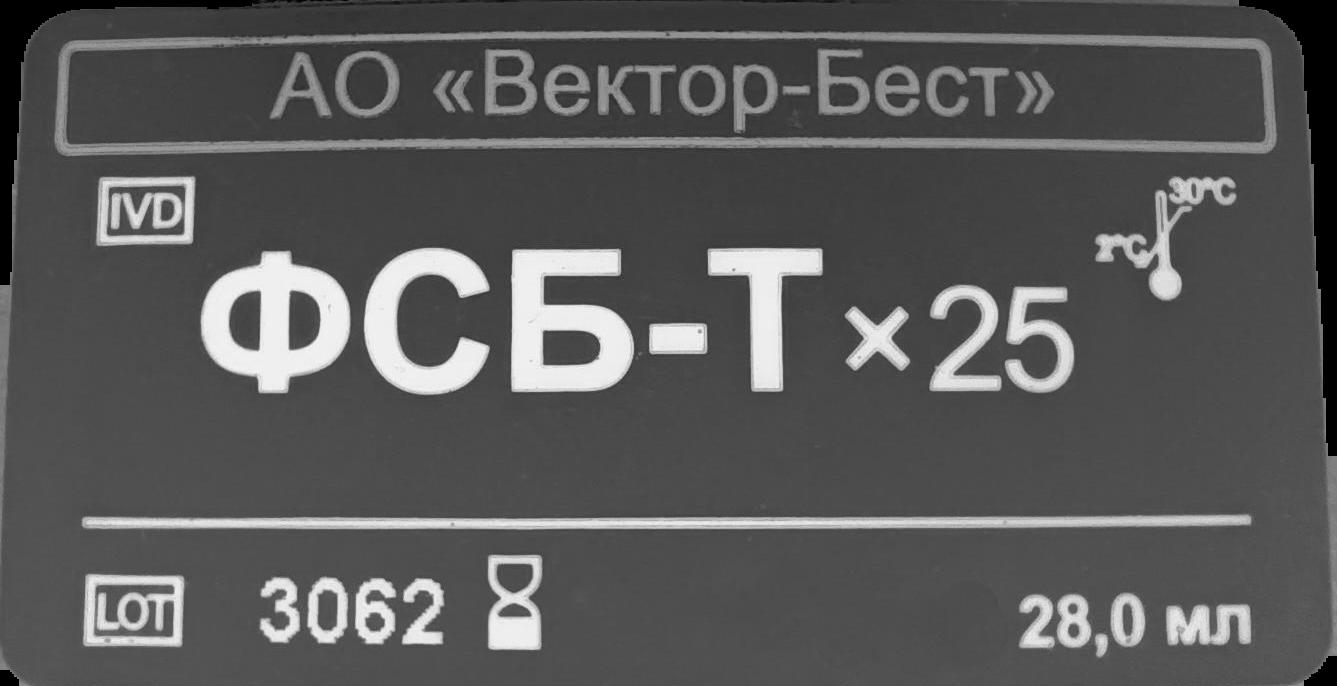something: (1091, 169, 1243, 306), (80, 569, 190, 652), (98, 171, 194, 248), (484, 549, 550, 655)
text: (192, 245, 1078, 411), (267, 43, 1057, 128), (255, 574, 451, 648), (1018, 594, 1251, 654)
